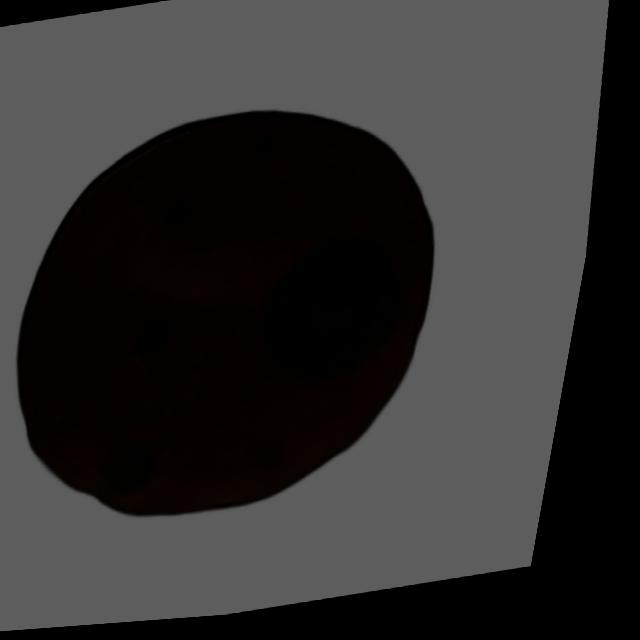BlueColor: (263, 236, 400, 376), (102, 440, 155, 494), (133, 315, 168, 356), (161, 195, 193, 230), (255, 131, 293, 158), (251, 446, 285, 471)
